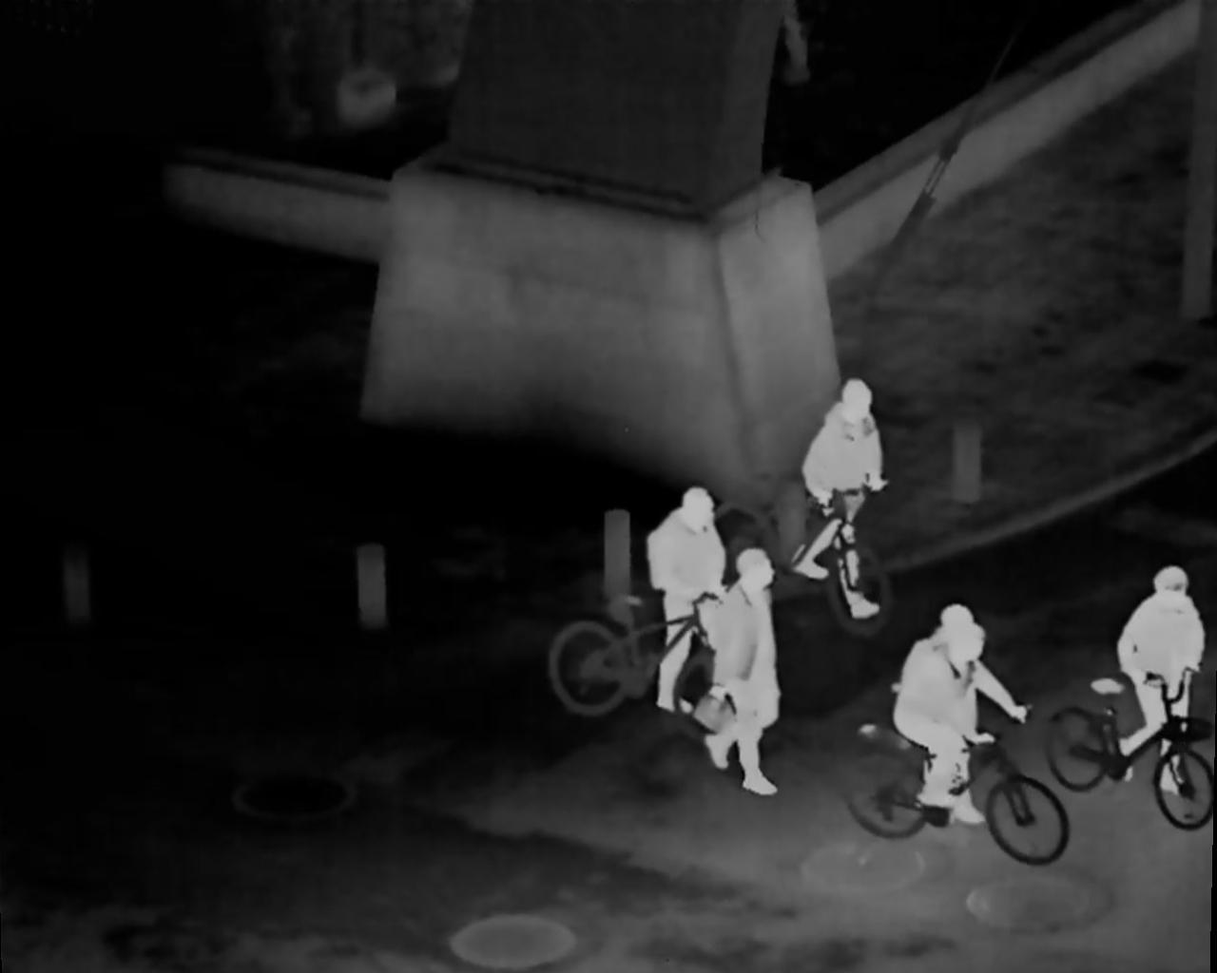person: (885, 605, 1026, 824), (792, 375, 887, 625), (705, 549, 792, 806), (1104, 567, 1206, 785), (650, 492, 725, 710)
